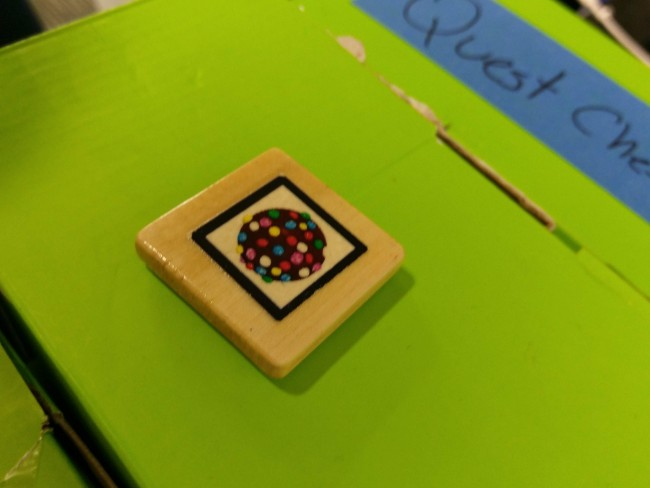cookie: (182, 171, 386, 335)
